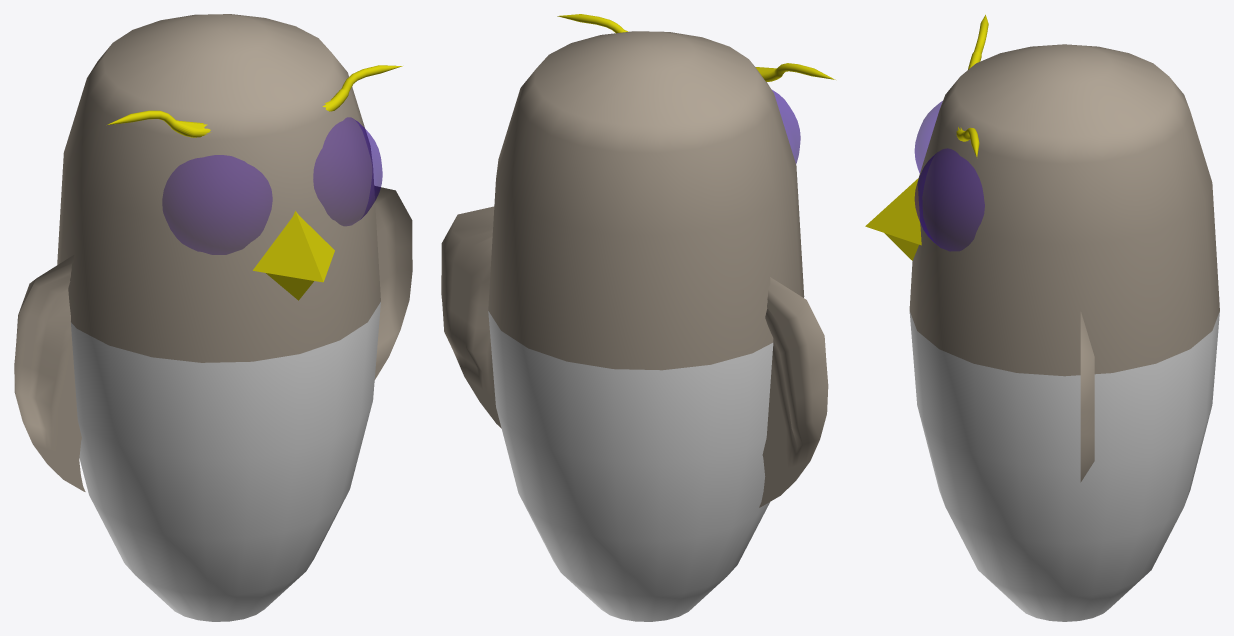
File: FolklostOwl.fbx
3 views of the same model, side by side, from view 1: azimuth 30°, elevation 25°; view 2: azimuth 150°, elevation 25°; view 3: azimuth 270°, elevation 25° (orthographic). The views are drawn at different scales.
Parts seen in each view (by area): view 1: polySurface4; view 2: polySurface4; view 3: polySurface4.
Part boxes in pixels (x1=…): polySurface4: x1=14, y1=14, x2=412, y2=621; polySurface4: x1=441, y1=14, x2=835, y2=621; polySurface4: x1=865, y1=14, x2=1219, y2=621.
Bounding box in the file's own units: 1.58 × 2.22 × 1.28.
